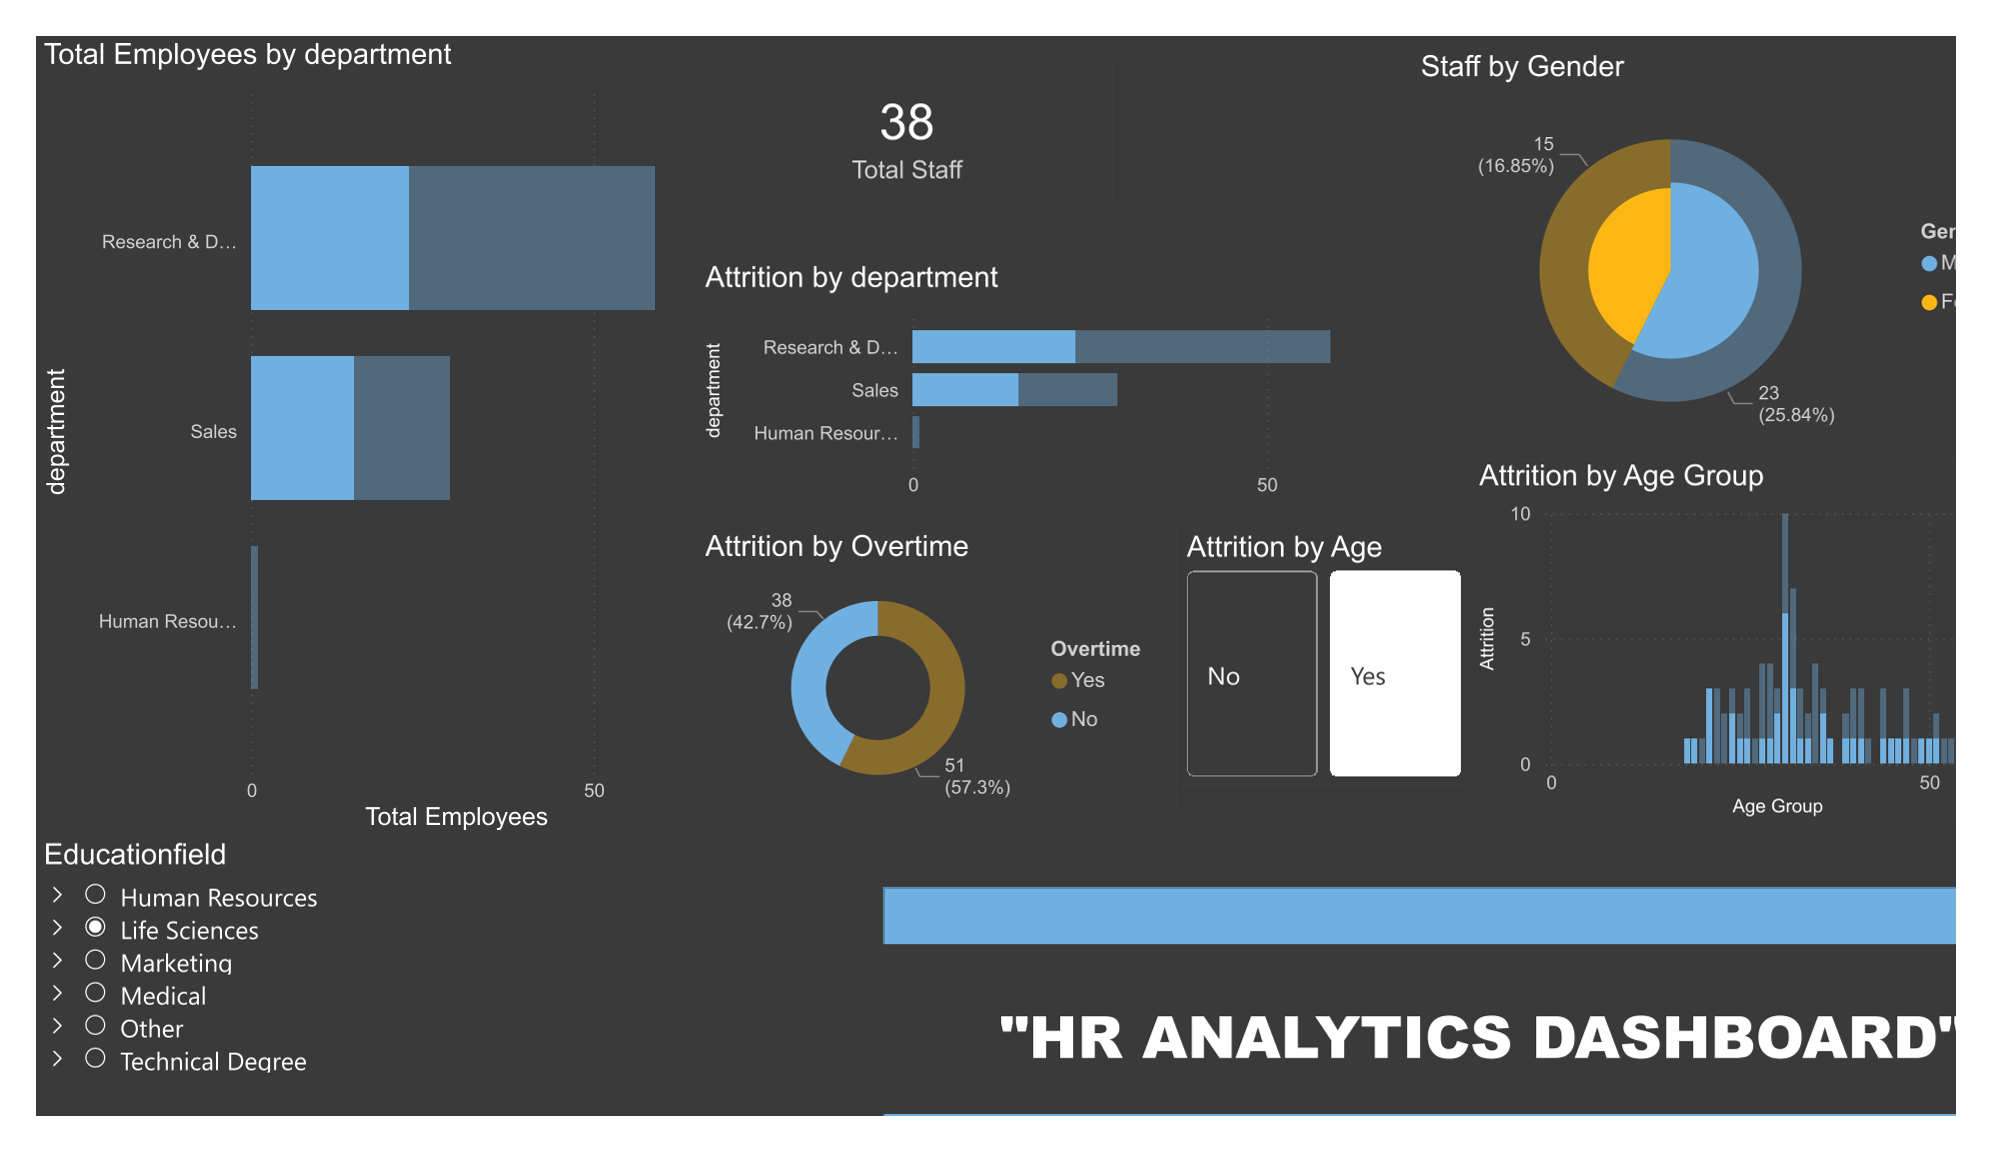

What the dashboard file says about the page in this screenshot:
{"tool":"powerbi","page":{"name":"Page 1","canvas":[1280,720],"ordinal":0},"visuals":[{"type":"card","fields":{"Values":["CountNonNull(public hr_data.monthlyincome)"]},"box":[425.7,16.2,264.8,91.4],"z":0},{"type":"clusteredBarChart","fields":{"Category":["public hr_data.department"],"Y":["CountNonNull(public hr_data.monthlyincome)"]},"box":[0,0,413.3,512.9],"z":1000},{"type":"clusteredBarChart","fields":{"Category":["public hr_data.department"],"Y":["CountNonNull(public hr_data.attrition)"]},"box":[424,143.1,422.2,160],"z":2000},{"type":"shape","box":[543.3,544.8,737.3,174.6],"z":3000},{"type":"textbox","box":[543.3,582.1,737.3,109],"z":4000},{"type":"pieChart","fields":{"Category":["public hr_data.gender"],"Y":["Count(public hr_data.employeenumber)"]},"box":[882.7,8,397.3,262.2],"z":5000},{"type":"donutChart","fields":{"Category":["public hr_data.overtime"],"Y":["public hr_data.Staff Who Left"]},"box":[424,315.6,308.4,182.2],"z":7000},{"type":"clusteredColumnChart","fields":{"Category":["public hr_data.age"],"Y":["public hr_data.Staff Who Left"]},"box":[920,270.2,353.8,234.7],"z":8000},{"type":"advancedSlicerVisual","fields":{"Values":["public hr_data.attrition"]},"box":[732.4,316.2,187.6,163.8],"z":8001},{"type":"listSlicer","fields":{"Values":["public hr_data.educationfield","public hr_data.jobrole"]},"box":[0,513.4,543.3,206],"z":8002}]}

Visuals, with their boxes in screenshot pixels (x1, y1, x2, y2), scaled from the page's 1280x720 canvas onto the 1992x1152 screenshot:
card - CountNonNull(public hr_data.monthlyincome): region(662, 26, 1075, 172)
clusteredBarChart - public hr_data.department x CountNonNull(public hr_data.monthlyincome): region(0, 0, 643, 821)
clusteredBarChart - public hr_data.department x CountNonNull(public hr_data.attrition): region(660, 229, 1317, 485)
shape: region(846, 872, 1991, 1151)
textbox: region(846, 931, 1991, 1106)
pieChart - public hr_data.gender x Count(public hr_data.employeenumber): region(1374, 13, 1991, 432)
donutChart - public hr_data.overtime x public hr_data.Staff Who Left: region(660, 505, 1140, 796)
clusteredColumnChart - public hr_data.age x public hr_data.Staff Who Left: region(1432, 432, 1982, 808)
advancedSlicerVisual - public hr_data.attrition: region(1140, 506, 1432, 768)
listSlicer - public hr_data.educationfield x public hr_data.jobrole: region(0, 821, 846, 1151)
